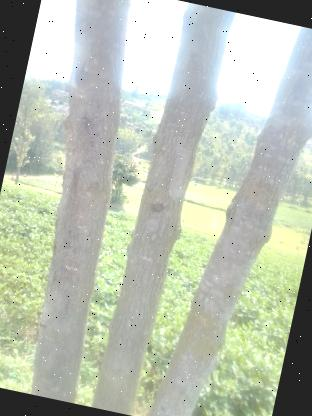tree: (0, 0, 168, 405), (152, 13, 312, 416), (83, 0, 237, 416)
